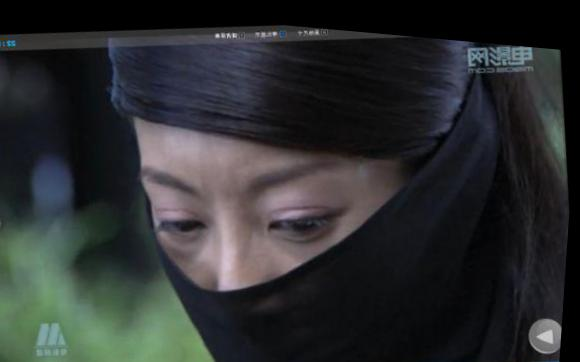WRONG: (125, 101, 432, 362)
